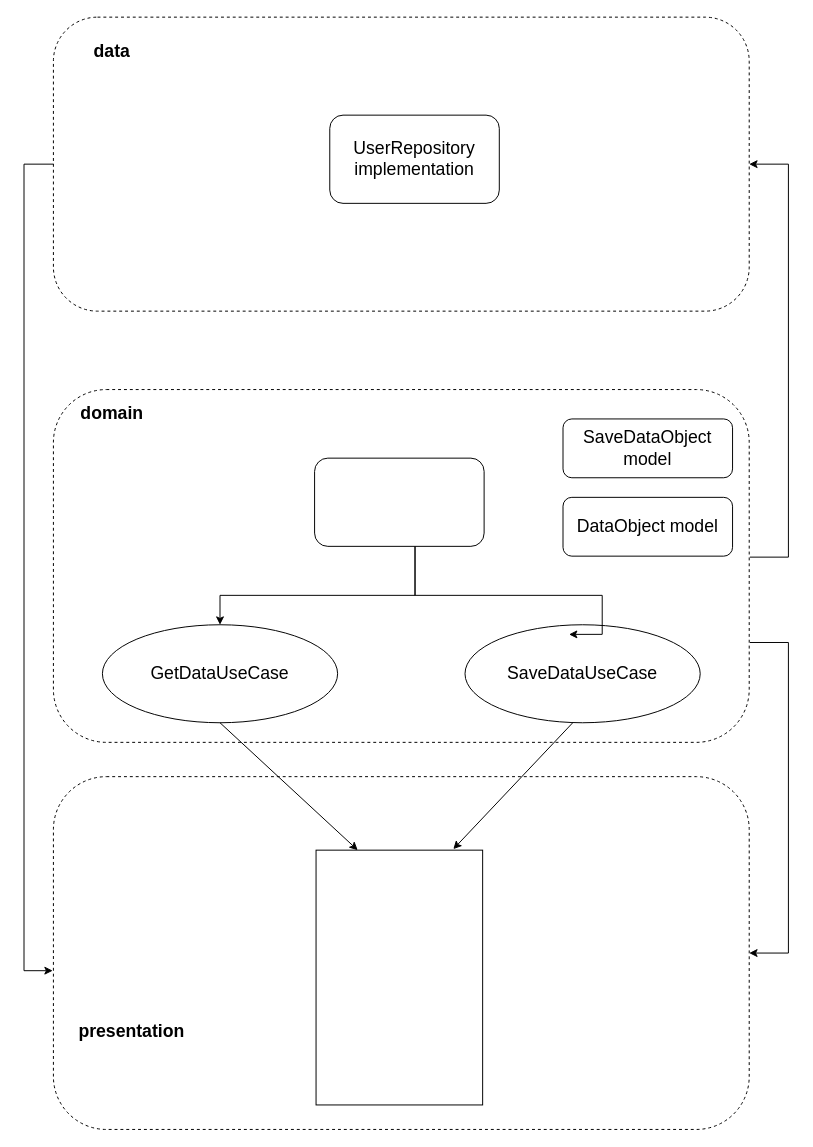
The diagram is 813 pixels wide and 1147 high, and some of its shapes have lost their labels. Each missing label, with the box of its shape:
Activity: (315, 849, 483, 1105)
UserRepository interface: (314, 457, 484, 546)
